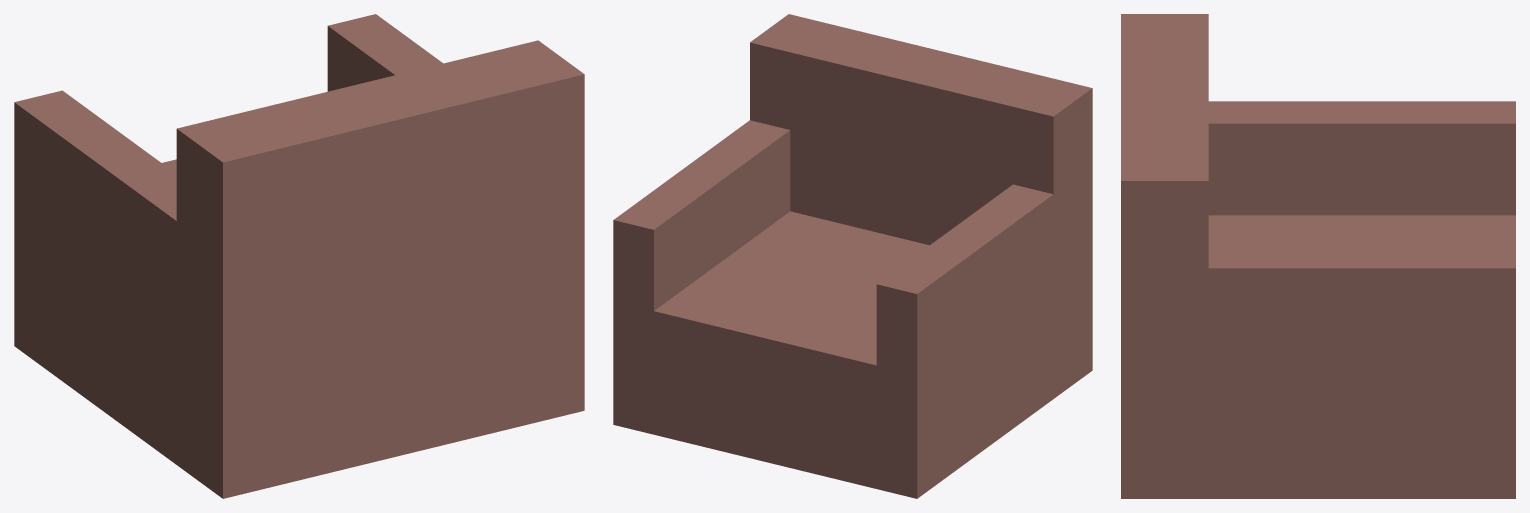
Rendered from armchair.gltf.
3 renders of one model, left to right at view 1: azimuth 30°, elevation 25°; view 2: azimuth 150°, elevation 25°; view 3: azimuth 270°, elevation 25°, orthographic. The views are drawn at different scales.
Parts seen in each view (by area): view 1: armchair; view 2: armchair; view 3: armchair.
Boxes of the visible parts, x1=… form: armchair: x1=14, y1=14, x2=584, y2=498; armchair: x1=613, y1=14, x2=1092, y2=498; armchair: x1=1121, y1=14, x2=1515, y2=498.
Bounding box in the file's own units: 0.9 × 0.8 × 0.9.
